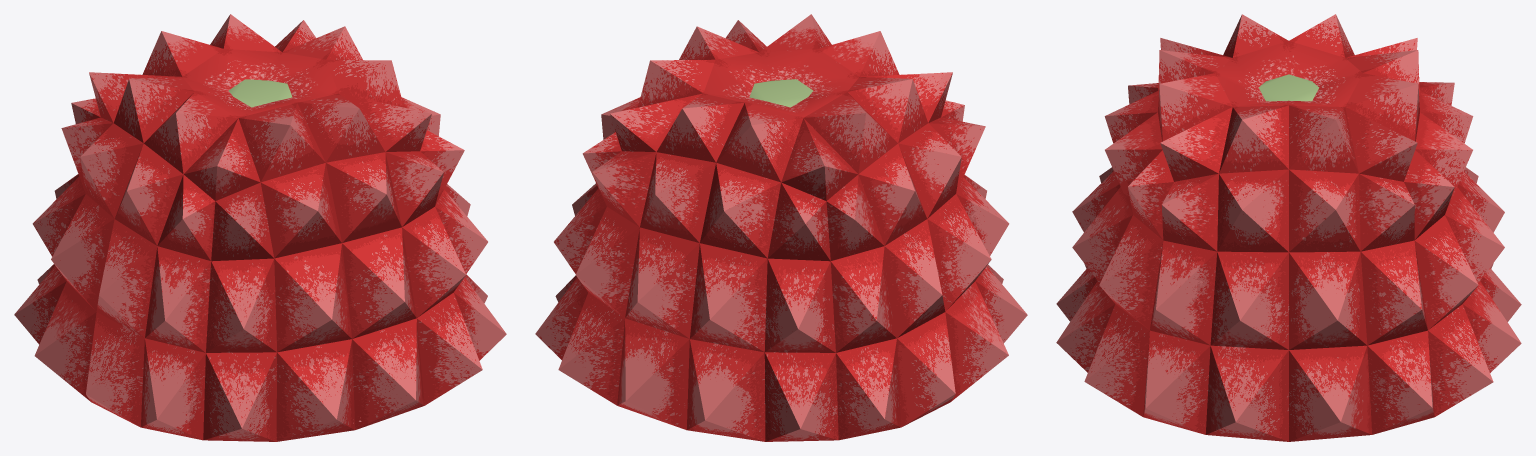
File: RedFruit.fbx
The picture shows the model from 3 angles, left to right: view 1: azimuth 30°, elevation 25°; view 2: azimuth 150°, elevation 25°; view 3: azimuth 270°, elevation 25°; orthographic projection.
Parts seen in each view (by area): view 1: Redfruit; view 2: Redfruit; view 3: Redfruit.
Part boxes in pixels (<box>): Redfruit: <box>14,14,506,441</box>; Redfruit: <box>535,14,1027,441</box>; Redfruit: <box>1056,14,1521,441</box>.
Bounding box in the file's own units: 308 × 219 × 308.
1 material, 1 textured.
